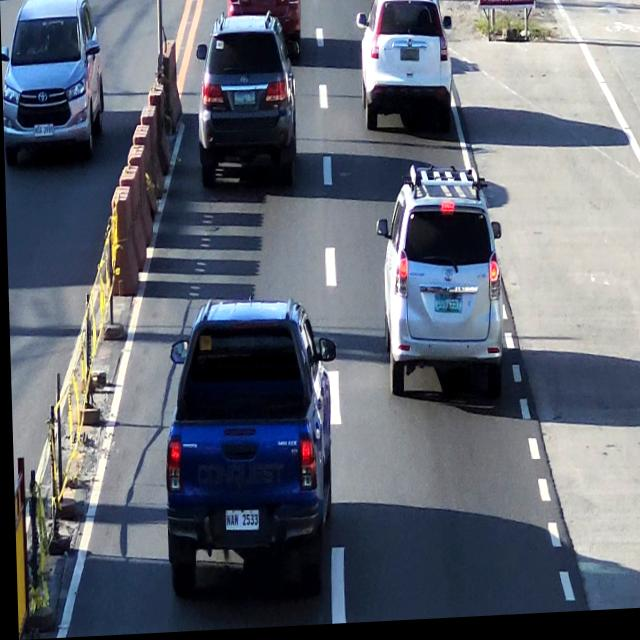Car: (159, 298, 330, 581), (382, 180, 503, 418), (196, 18, 297, 182), (360, 0, 452, 130), (226, 0, 309, 37)
License-Plate: (221, 508, 258, 542), (429, 297, 465, 322), (230, 94, 258, 109), (402, 51, 420, 64)
